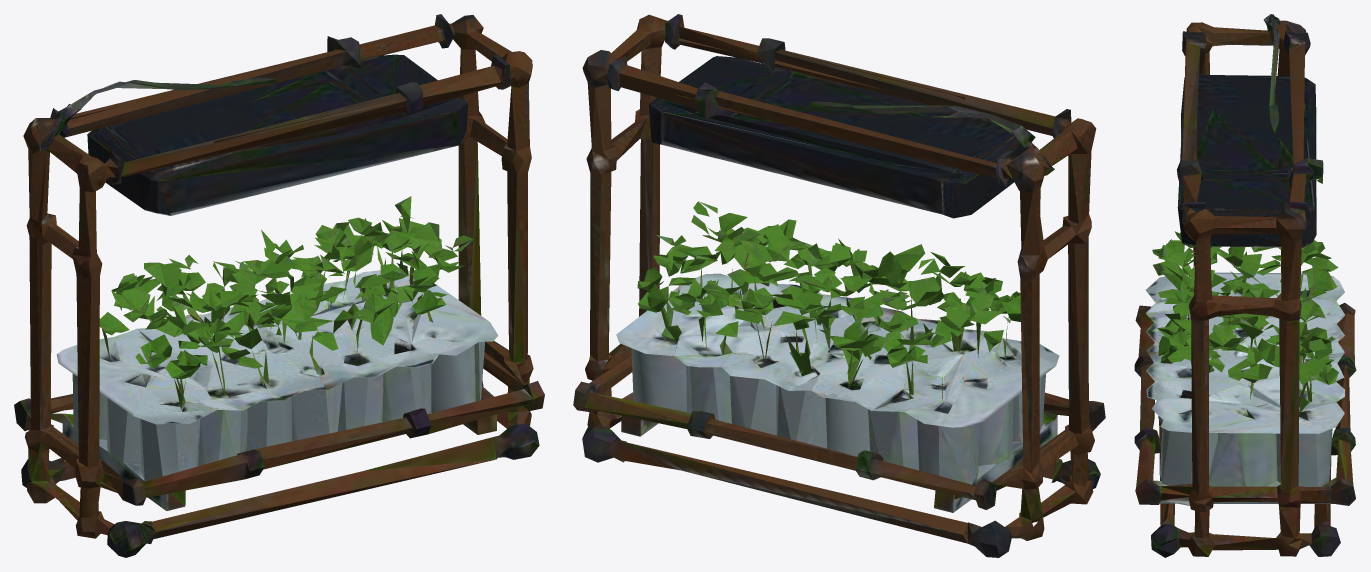
The model's file is hydroponie.glb.
3 renders of one model, left to right at view 1: azimuth 30°, elevation 25°; view 2: azimuth 150°, elevation 25°; view 3: azimuth 270°, elevation 25°, orthographic. The views are drawn at different scales.
Bounding box in the file's own units: 1.9 × 1.66 × 0.8874.
Materials: 1 (1 with a texture image).
